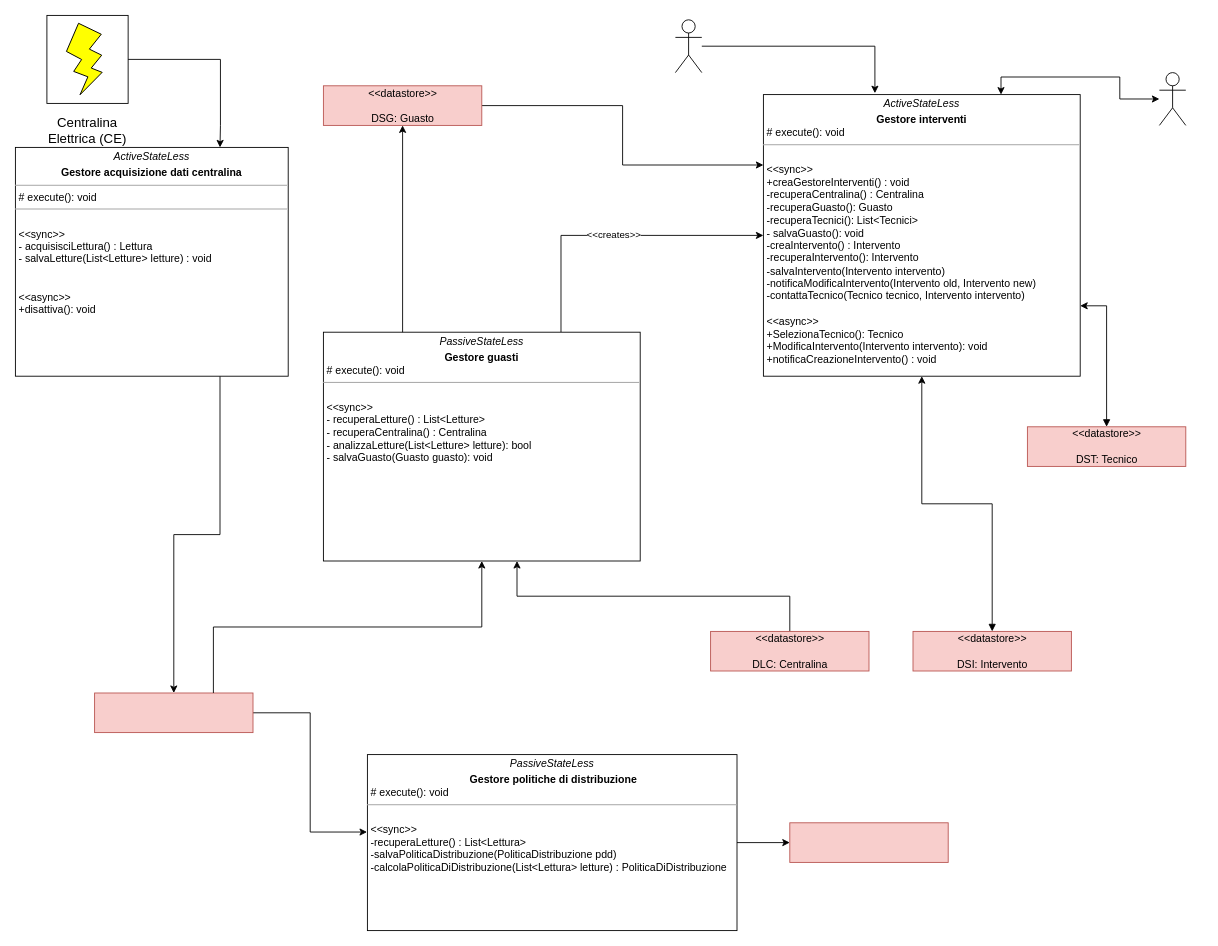
The diagram is 1218 pixels wide and 946 high, and some of its shapes have lost their labels. The box of each missing label's shape, as (x1, y1, x2, y2) in pixels:
<<datastore>> DLC: Lettura: (94, 692, 253, 733)
<<datastore>> DSPD: Politica di distribuzione: (789, 822, 948, 862)
Operatore: (1159, 72, 1186, 125)
Servizio tecnico centrale: (675, 19, 702, 73)
